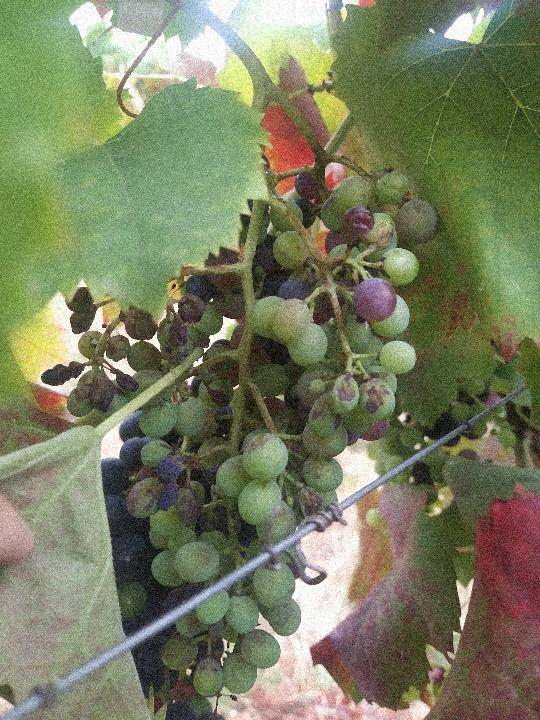grape: (36, 165, 443, 707)
